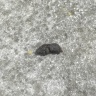Dog: (36, 44, 62, 55)
